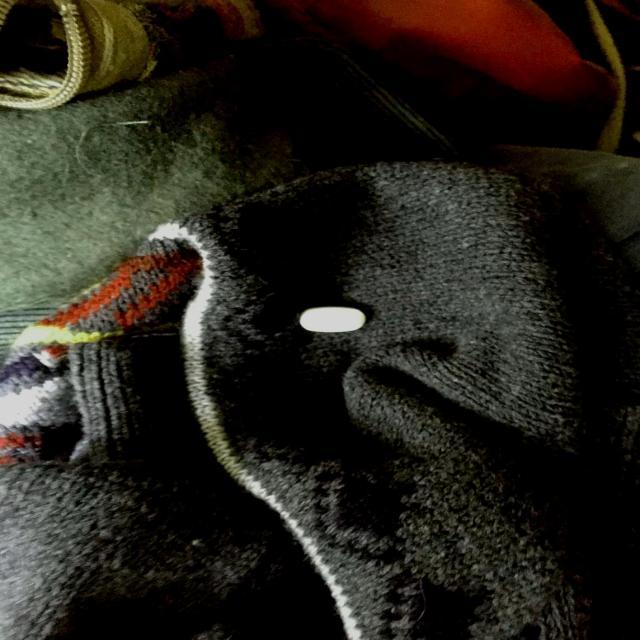pill: (291, 296, 368, 340)
